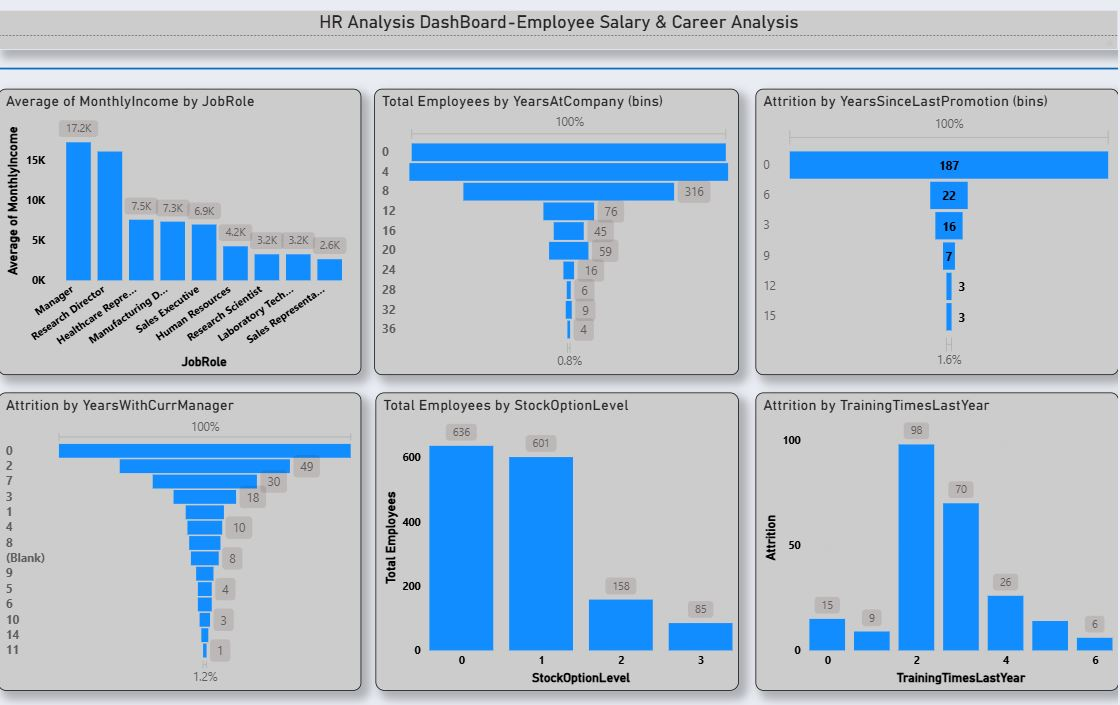

Layout of this report page (visuals, bound fields, positions):
{"tool":"powerbi","page":{"name":"Salary & Career Analysis","canvas":[1280,800],"ordinal":3},"visuals":[{"type":"textbox","title":"HR Analysis DashBoard-Employee Salary & Career Analysis","box":[0,0,1280.3,45.3],"z":0},{"type":"shape","box":[0,58.4,1280.3,16.7],"z":2000},{"type":"clusteredColumnChart","fields":{"Category":["HR_Analytics.JobRole"],"Y":["Avg(HR_Analytics.MonthlyIncome)"]},"box":[0,89.7,415.3,327],"z":10000},{"type":"funnel","fields":{"Y":["HR_Measure.Total Employees"],"Category":["HR_Analytics.YearsAtCompany (bins)"]},"box":[430.4,89.7,416.6,327],"z":11000},{"type":"funnel","fields":{"Y":["HR_Measure.Attrition"],"Category":["HR_Analytics.YearsSinceLastPromotion (bins)"]},"box":[865,89.7,415.3,327],"z":12000},{"type":"funnel","fields":{"Y":["HR_Measure.Attrition"],"Category":["HR_Analytics.YearsWithCurrManager"]},"box":[0,437.3,415.3,340.8],"z":13000},{"type":"columnChart","fields":{"Y":["HR_Measure.Attrition"],"Category":["HR_Analytics.TrainingTimesLastYear"]},"box":[865,437.3,415.3,340.8],"z":14000},{"type":"clusteredColumnChart","fields":{"Y":["HR_Measure.Total Employees"],"Category":["HR_Analytics.StockOptionLevel"]},"box":[431.8,437.3,415.3,340.8],"z":15000}]}

Visuals, with their boxes in screenshot pixels (x1, y1, x2, y2), scaled from the page's 1280x800 canvas onto the 1120x705 screenshot:
"HR Analysis DashBoard-Employee Salary & Career Analysis" textbox: (0, 0, 1119, 40)
shape: (0, 51, 1119, 66)
clusteredColumnChart - HR_Analytics.JobRole x Avg(HR_Analytics.MonthlyIncome): (0, 79, 363, 367)
funnel - HR_Measure.Total Employees x HR_Analytics.YearsAtCompany (bins): (377, 79, 741, 367)
funnel - HR_Measure.Attrition x HR_Analytics.YearsSinceLastPromotion (bins): (757, 79, 1119, 367)
funnel - HR_Measure.Attrition x HR_Analytics.YearsWithCurrManager: (0, 385, 363, 686)
columnChart - HR_Measure.Attrition x HR_Analytics.TrainingTimesLastYear: (757, 385, 1119, 686)
clusteredColumnChart - HR_Measure.Total Employees x HR_Analytics.StockOptionLevel: (378, 385, 741, 686)
